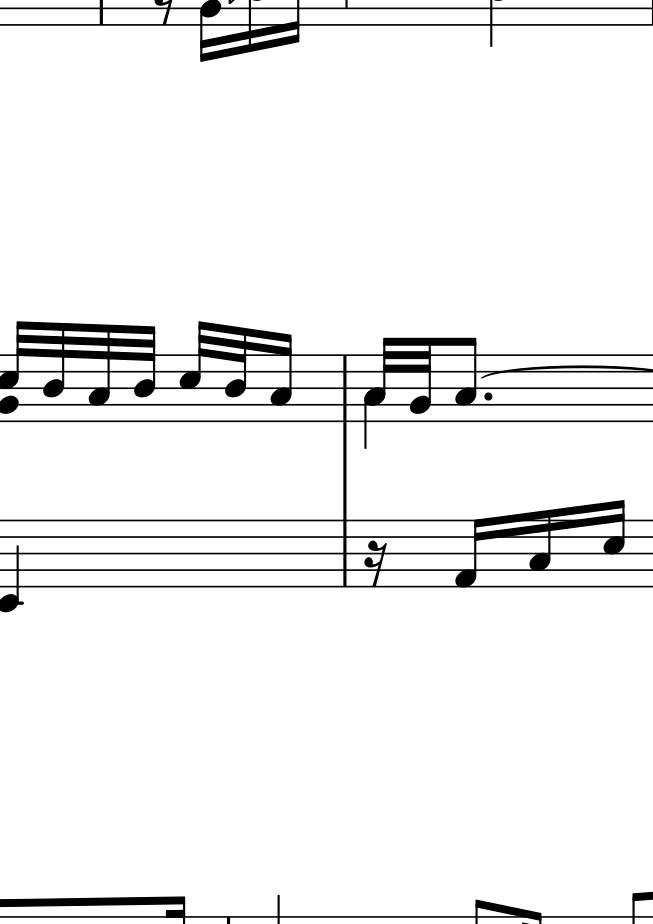16_1: (452, 517, 486, 590)
16_3: (268, 331, 293, 424), (527, 507, 553, 589)
16_5: (601, 497, 628, 589)
32_2: (408, 335, 433, 424)
32_3: (85, 322, 113, 423)
32_4: (41, 321, 68, 424), (132, 323, 158, 424), (223, 326, 249, 424)
32_5: (177, 319, 210, 423)
8_3: (453, 335, 478, 423)
Rests16: (362, 538, 388, 588)
Single_barline: (337, 354, 354, 420), (337, 520, 353, 584)
dot: (481, 390, 494, 404)
